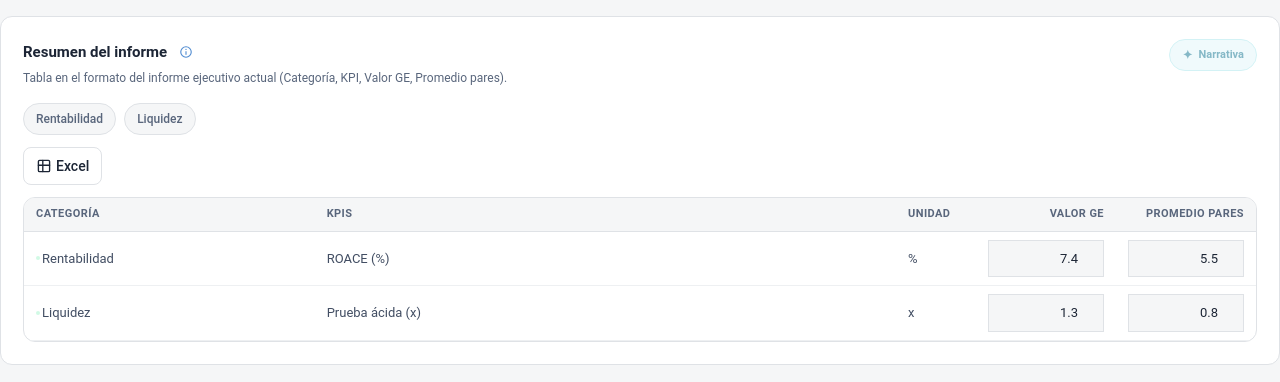
Test: ReportSummary › filters rows by selected category
Expected: the column heading "ROACE (%)" is shown, [315, 240, 896, 276]
Expected: the column heading "Prueba ácida (x)" is shown, [315, 295, 896, 330]
Click the button "Liquidez" at [160, 119], box [124, 103, 196, 135]
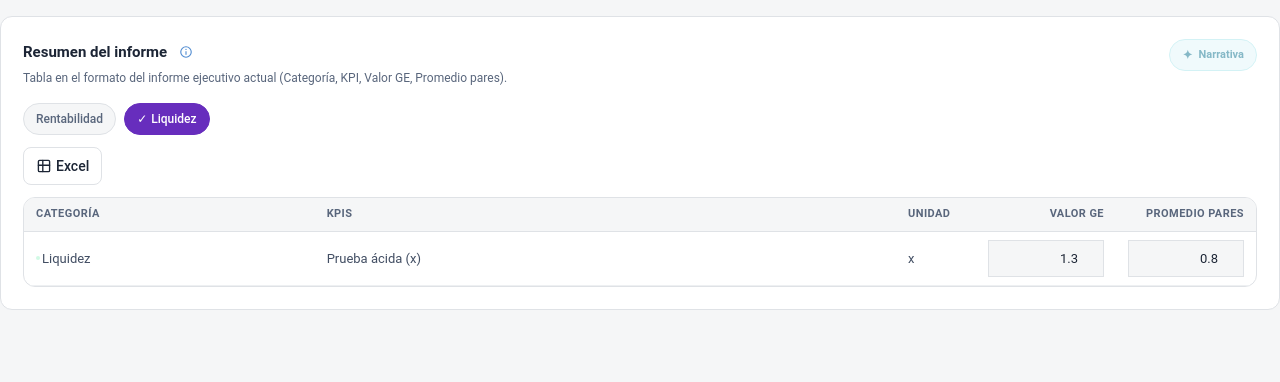
Expected: the column heading "Prueba ácida (x)" is shown, [315, 240, 896, 276]
Now the column heading "ROACE (%)" is gone
